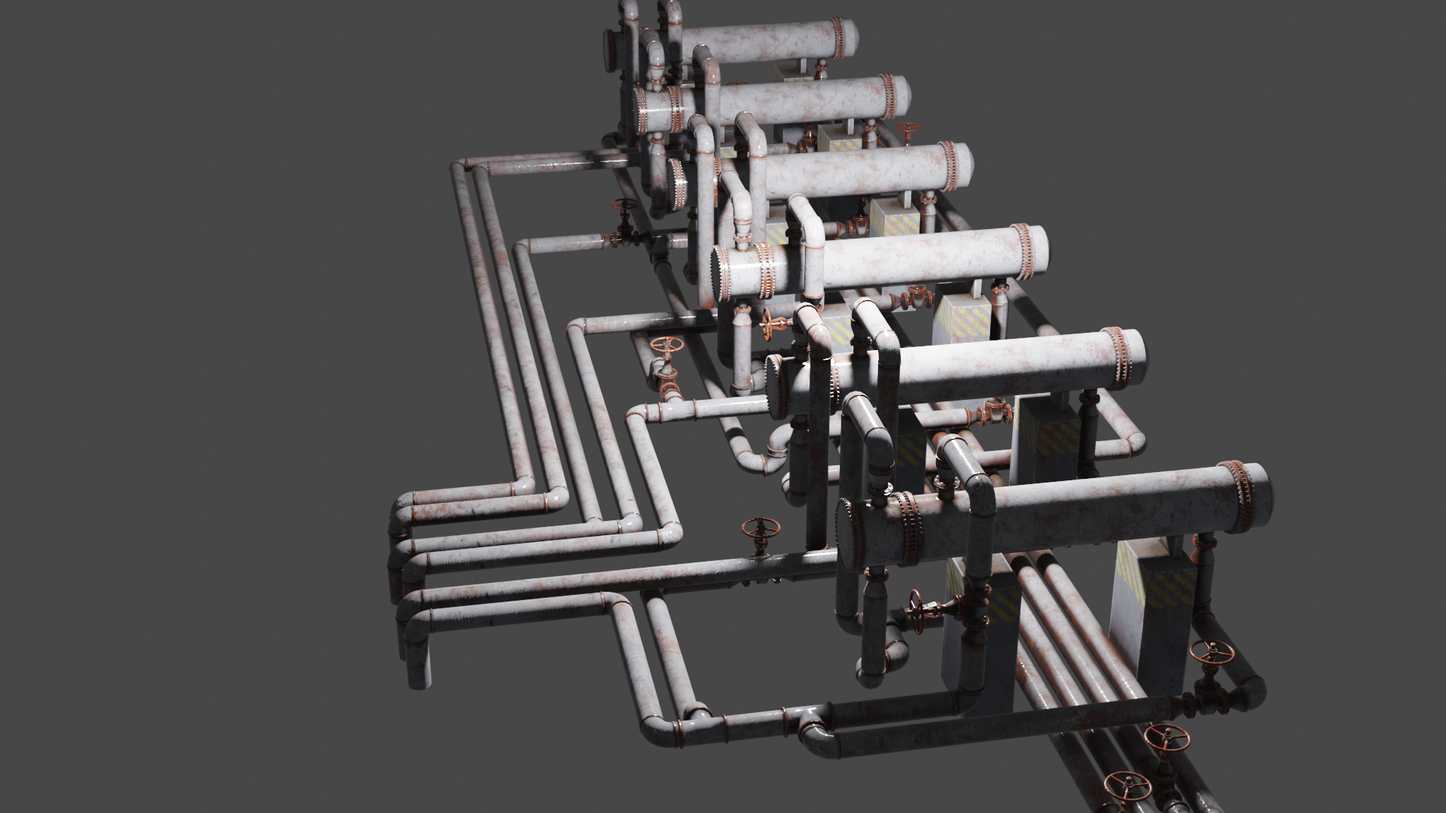HE_1: (603, 19, 863, 72)
HE_2: (627, 74, 911, 138)
HE_3: (671, 142, 974, 213)
HE_4: (716, 223, 1051, 304)
HE_5: (765, 329, 1150, 418)
HE_6: (835, 461, 1273, 571)
